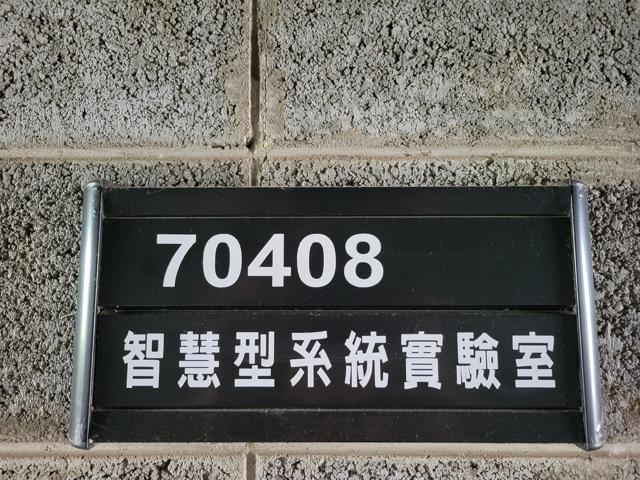doorplate: (62, 157, 612, 456)
